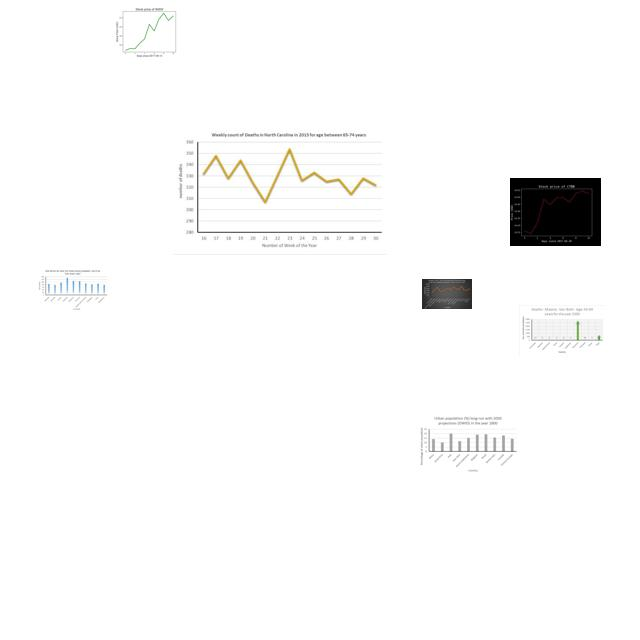Graph: (173, 127, 387, 255), (510, 178, 601, 246), (418, 415, 518, 474), (519, 305, 605, 357), (113, 5, 184, 58), (37, 269, 108, 311), (422, 279, 472, 309)
